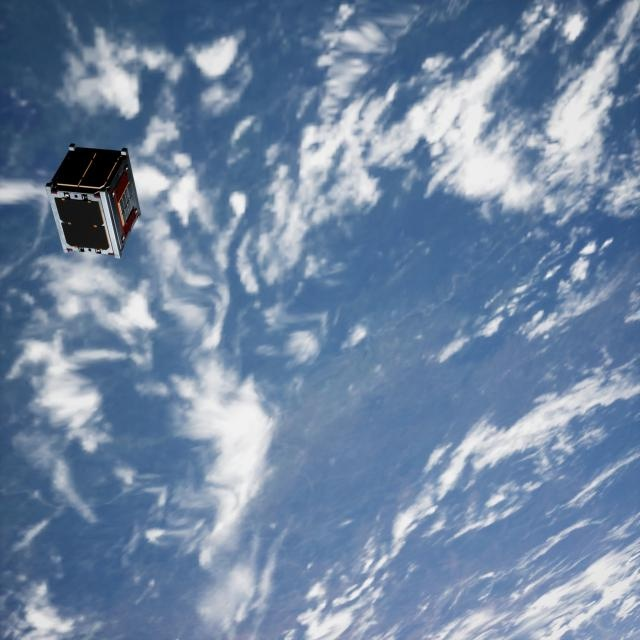satellite: (33, 145, 148, 261)
